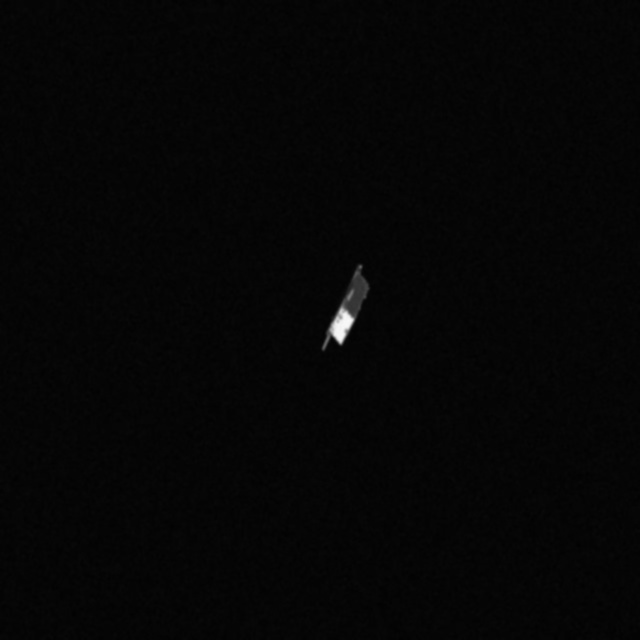medium_debris: (308, 260, 372, 366)
